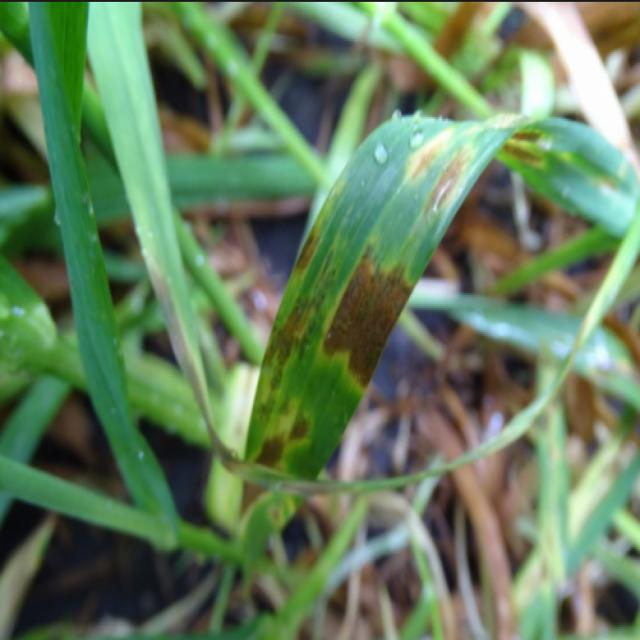wheat-septoria: (242, 116, 640, 483), (149, 266, 242, 477), (234, 482, 306, 557)
